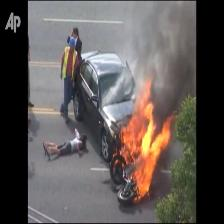fire: (116, 75, 175, 200)
smoke: (134, 2, 196, 109)
